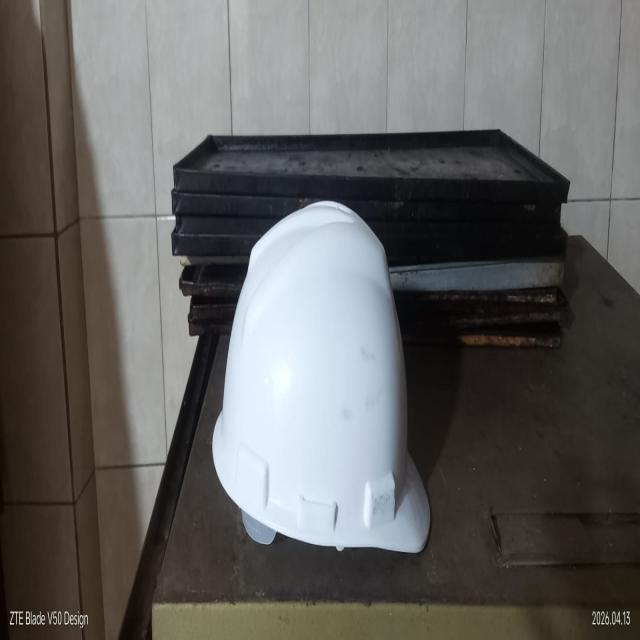casco: (201, 198, 440, 567)
